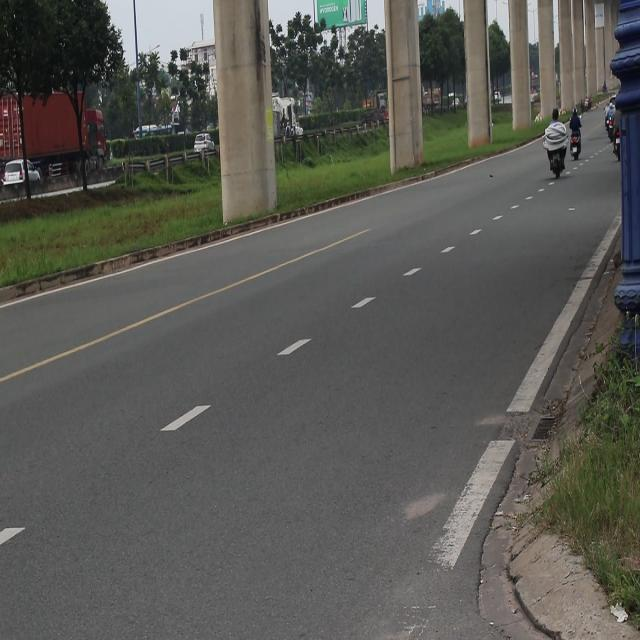car: (0, 156, 46, 191), (194, 134, 216, 151)
motorbike: (538, 141, 574, 175), (613, 124, 624, 169), (603, 107, 615, 143), (571, 133, 582, 157)
truck: (0, 82, 114, 180)
